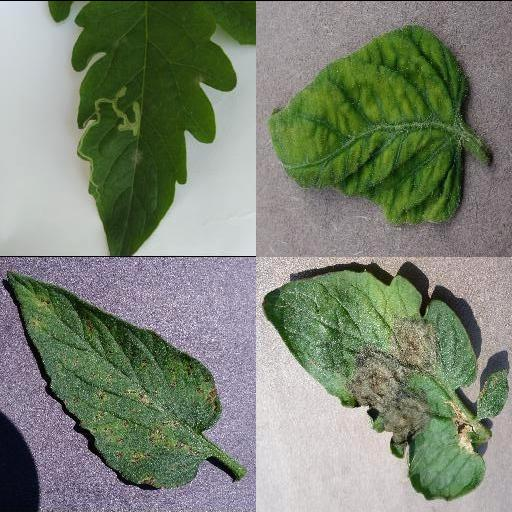Late Blight: (261, 267, 485, 501)
Leaf Miner: (70, 0, 236, 256)
Septoria: (8, 267, 220, 489)
Yellow Leaf Curl Virus: (265, 24, 465, 226)
